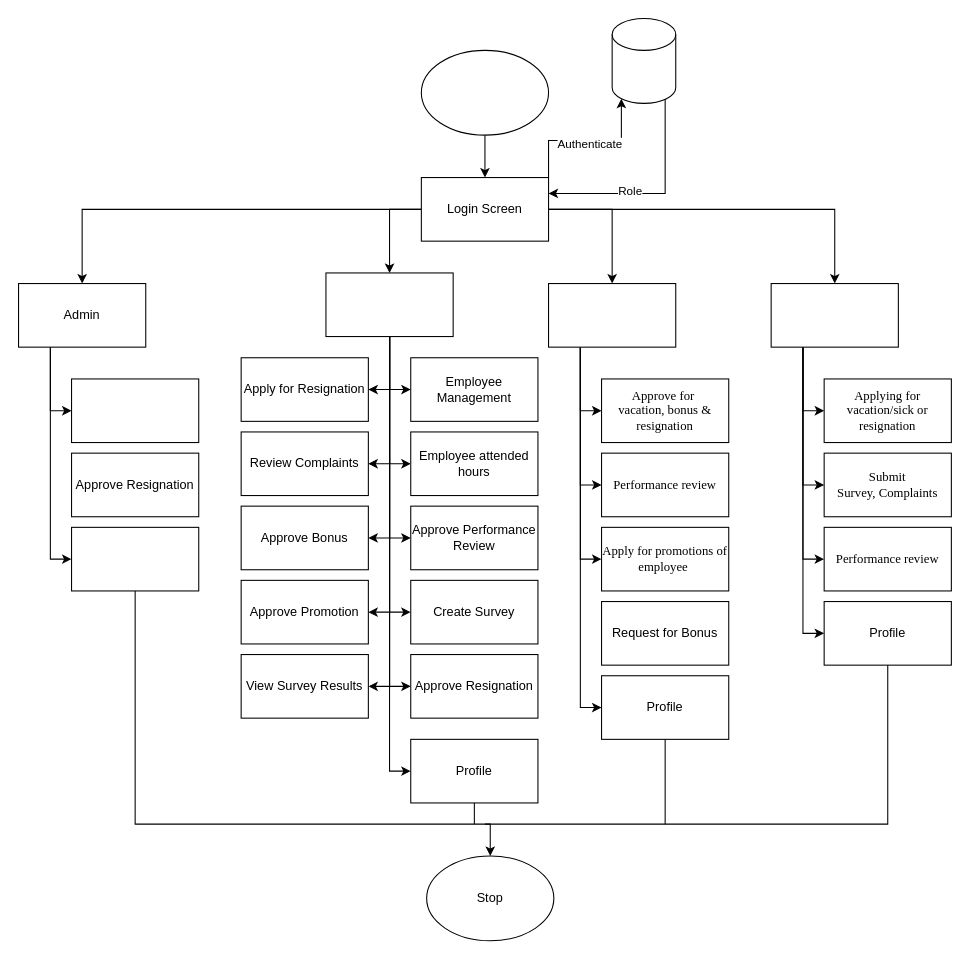
Image size: 970x959. Some labels were removed from this diagram. The centre of each missing label's shape, as x and y in pixels:
Create/Remove Login: pixel 134 410
Database: pixel 643 60
Employee: pixel 834 314
HR: pixel 389 304
Login as other roles: pixel 134 558
Manager: pixel 611 314
Start: pixel 484 92
